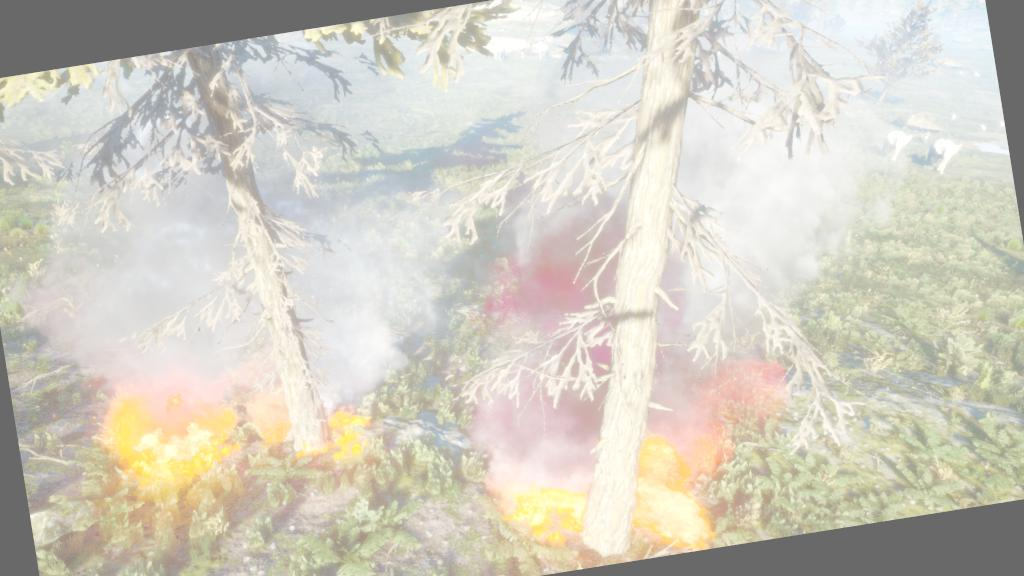Fire: (92, 342, 383, 515), (488, 399, 747, 575)
elephant: (918, 134, 969, 178), (870, 124, 918, 170), (484, 41, 510, 64), (533, 40, 554, 62), (514, 40, 534, 60)
human: (916, 128, 938, 144)
smoke: (407, 0, 906, 485), (6, 15, 448, 429)
